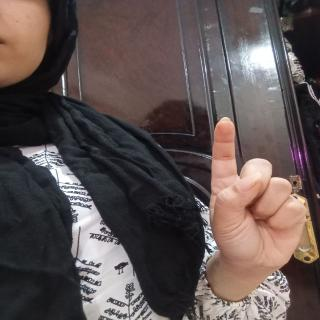BAA: (198, 112, 312, 289)
